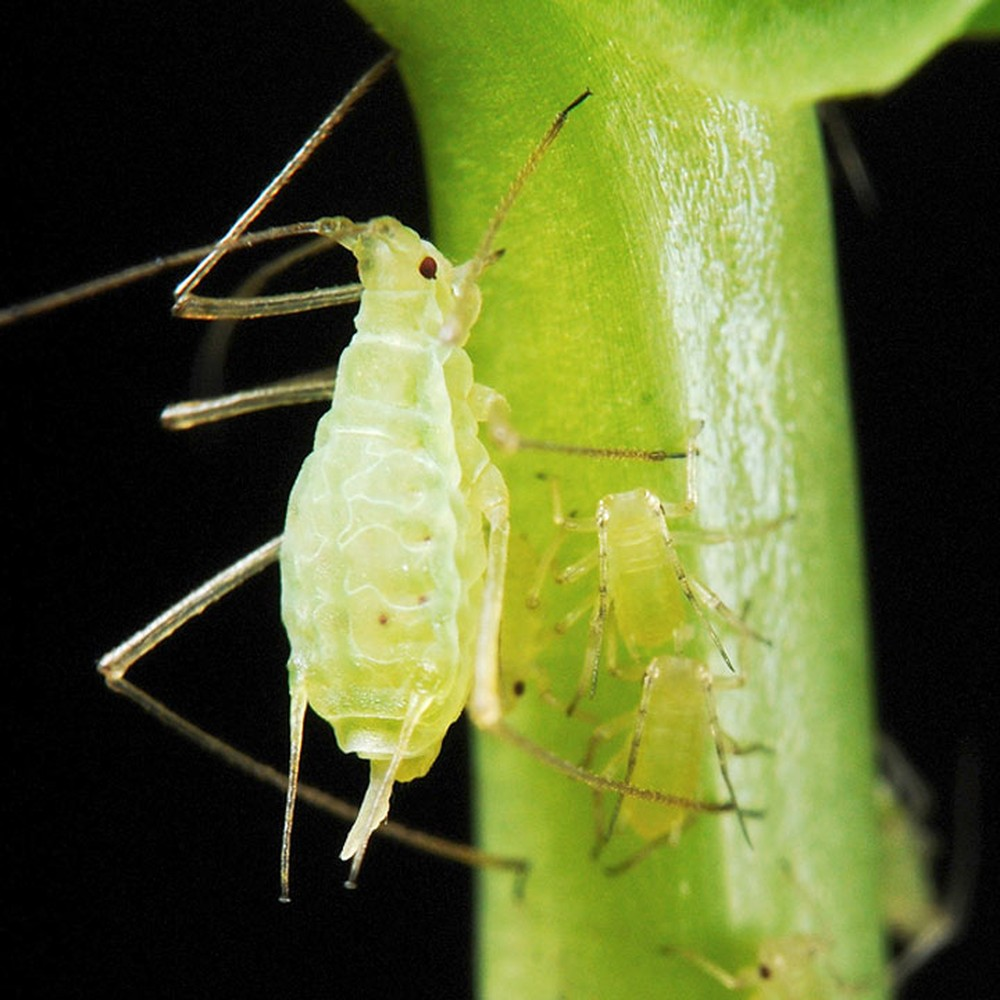Pulgon: (123, 155, 573, 879), (556, 464, 759, 684), (568, 651, 768, 862)
